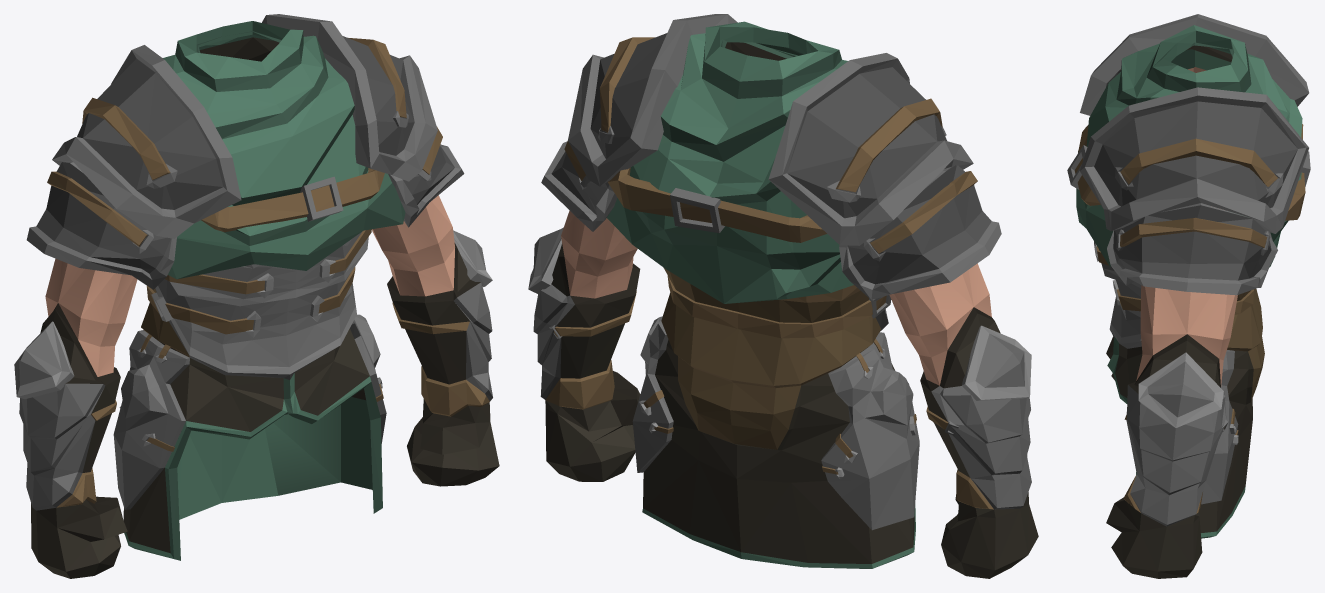
File: LegendaryNobleWarriorArmor.dae
3 renders of one model, left to right at view 1: azimuth 30°, elevation 25°; view 2: azimuth 150°, elevation 25°; view 3: azimuth 270°, elevation 25°, orthographic. The views are drawn at different scales.
Visible parts, largest first — view 1: Chestplate; view 2: Chestplate; view 3: Chestplate.
Part boxes in pixels (x1,y1,x2,y2): Chestplate: [14, 14, 499, 578]; Chestplate: [528, 14, 1038, 578]; Chestplate: [1067, 14, 1310, 578].
Size of the model in its own units: 5.26 by 2.52 by 5.06.
